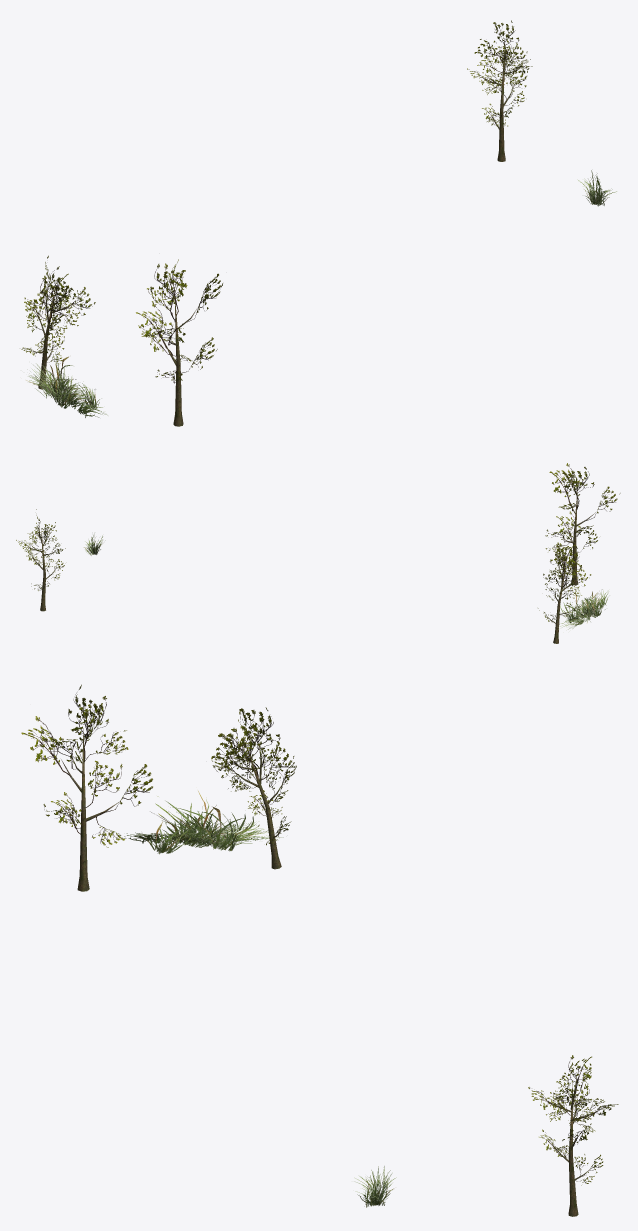
The model's file is arbolesC.obj.
3 views of the same model, one above another, from view 1: azimuth 30°, elevation 25°; view 2: azimuth 150°, elevation 25°; view 3: azimuth 270°, elevation 25° (orthographic). The views are drawn at different scales.
Parts seen in each view (by area): view 1: Rama_001-material.006, Rama_001-material.005, Rama_001-material.004, Medium_bush_3_phong3_0.004; view 2: Rama_001-material.006, Rama_001-material.005, Rama_001-material.004, Medium_bush_3_phong3_0.004; view 3: Rama_001-material.006, Rama_001-material.005, Medium_bush_3_phong3_0.004, Rama_001-material.004, Medium_bush_3_phong3_0.006.
Part boxes in pixels (x1,y1,x2,y2): Rama_001-material.006: (136,259,222,426); Rama_001-material.005: (21,255,95,389); Rama_001-material.004: (467,20,532,161); Medium_bush_3_phong3_0.004: (26,351,107,417); Rama_001-material.006: (545,463,620,585); Rama_001-material.005: (538,542,591,643); Rama_001-material.004: (16,509,65,611); Medium_bush_3_phong3_0.004: (558,589,609,629); Rama_001-material.006: (21,684,152,891); Rama_001-material.005: (211,707,296,869); Medium_bush_3_phong3_0.004: (113,791,283,854); Rama_001-material.004: (528,1055,618,1216); Medium_bush_3_phong3_0.006: (354,1166,396,1207).
Size of the model in its own units: 171 by 47.62 by 117.
Materials: 4 (4 with a texture image).
